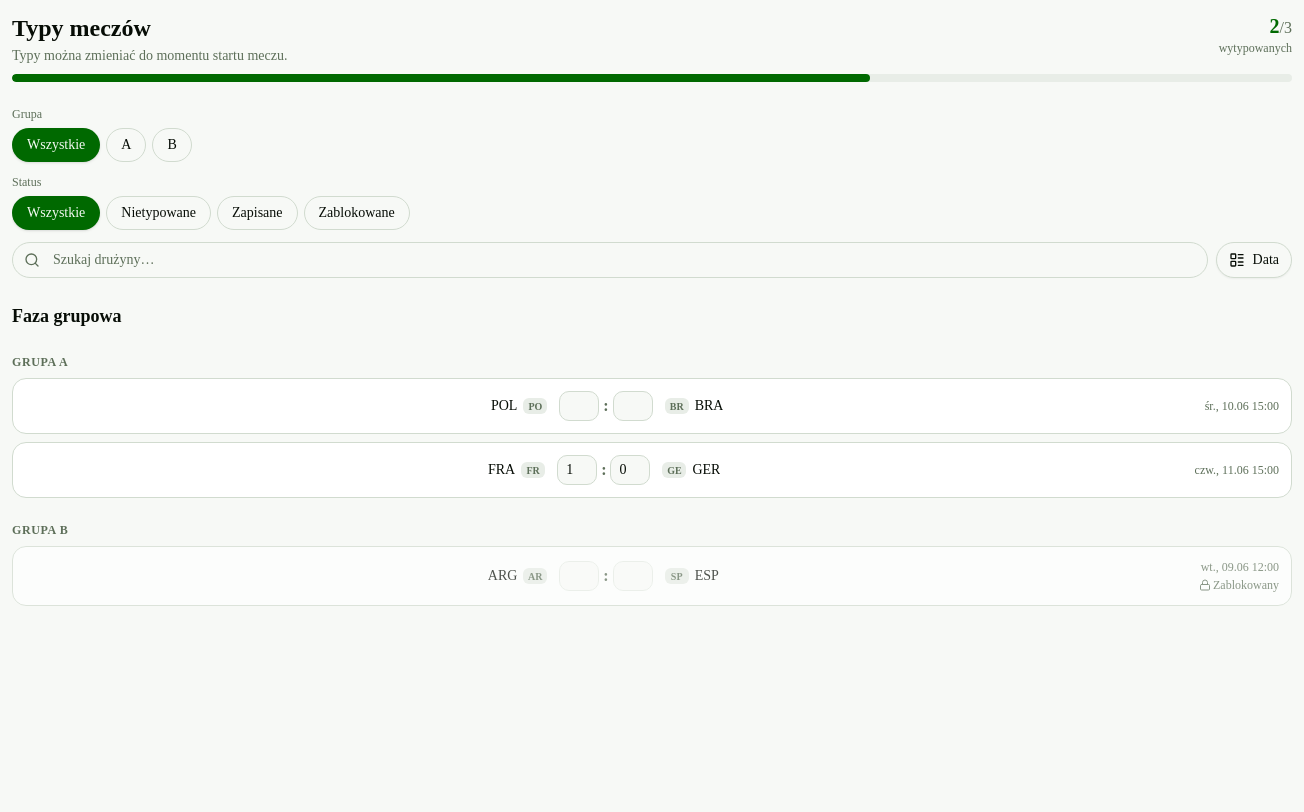
Test: PredictionsBoard › filtering by status 'Zapisane' shows only saved matches
Click the button "Zapisane" at coordinates (257, 213), box x1=217 y1=196 x2=298 y2=230
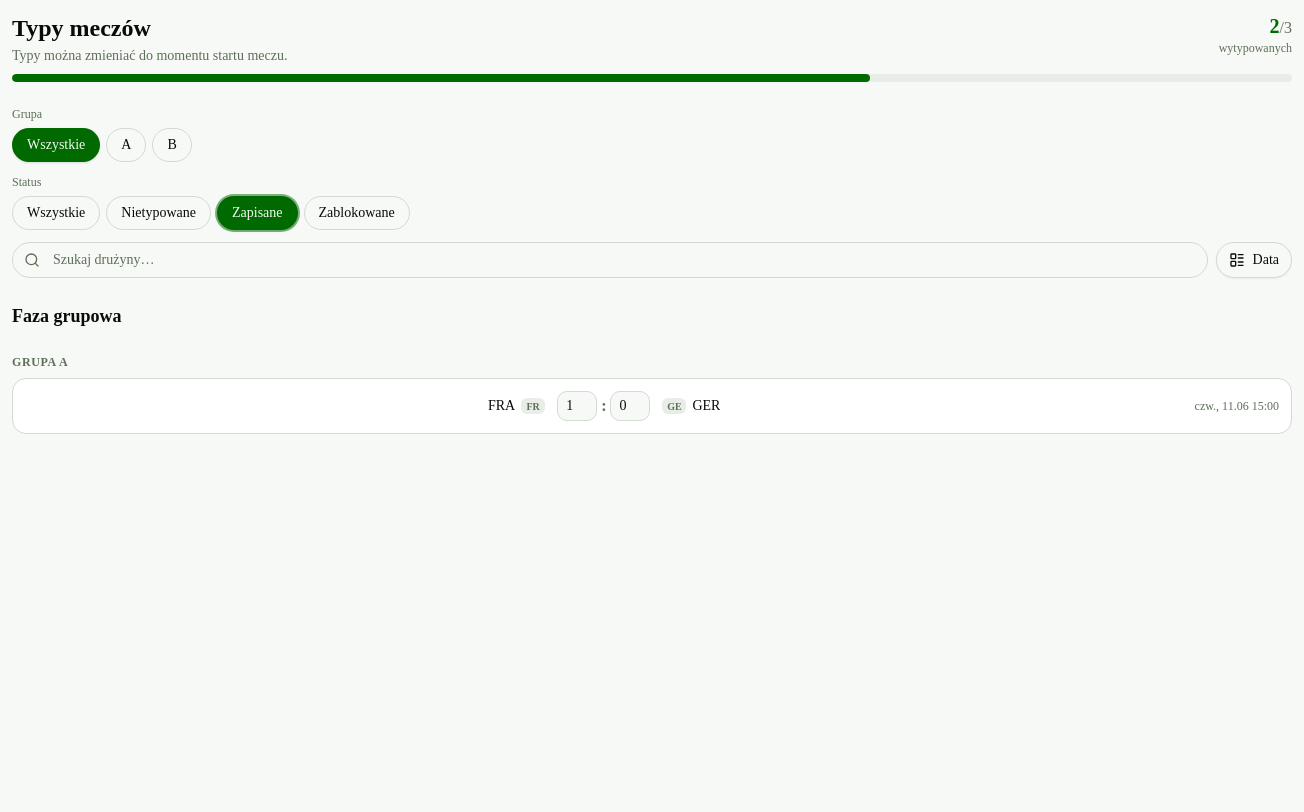
Check: the text "FRA" is shown, box x1=488 y1=396 x2=515 y2=416
Check: the text "POL" is gone
Check: the text "ARG" is gone
